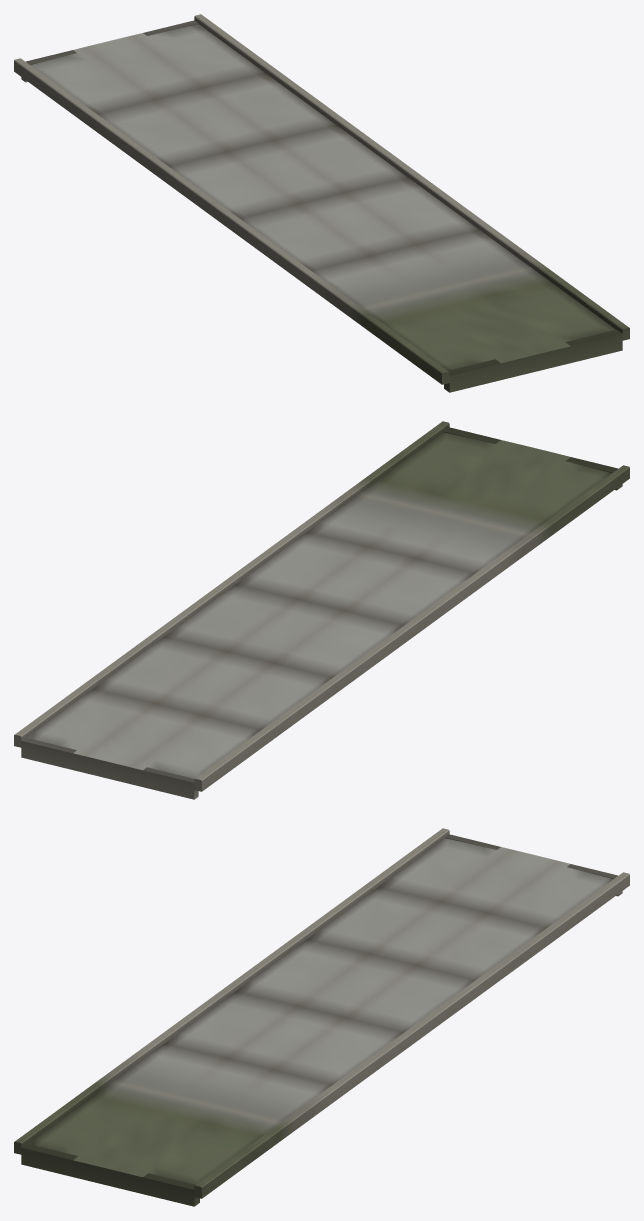
File: boat_ramp.glb
3 renders of one model, top to bottom at view 1: azimuth 30°, elevation 25°; view 2: azimuth 150°, elevation 25°; view 3: azimuth 330°, elevation 25°, orthographic.
Parts seen in each view (by area): view 1: boat_ramp_slab_LOD0, boat_ramp_curb_l_LOD0, boat_ramp_curb_r_LOD0; view 2: boat_ramp_slab_LOD0, boat_ramp_curb_l_LOD0, boat_ramp_curb_r_LOD0; view 3: boat_ramp_slab_LOD0, boat_ramp_curb_r_LOD0, boat_ramp_curb_l_LOD0.
Boxes of the visible parts, box(x1,y1,x2,y2) form: boat_ramp_slab_LOD0: box(21, 20, 622, 392); boat_ramp_curb_l_LOD0: box(14, 58, 449, 384); boat_ramp_curb_r_LOD0: box(194, 14, 629, 340); boat_ramp_slab_LOD0: box(21, 427, 622, 799); boat_ramp_curb_l_LOD0: box(194, 465, 629, 791); boat_ramp_curb_r_LOD0: box(14, 421, 449, 747); boat_ramp_slab_LOD0: box(21, 834, 622, 1206); boat_ramp_curb_r_LOD0: box(194, 872, 629, 1198); boat_ramp_curb_l_LOD0: box(14, 828, 449, 1154).
Size of what is drawn, in the model's own units: 7.6 by 0.825 by 30.
